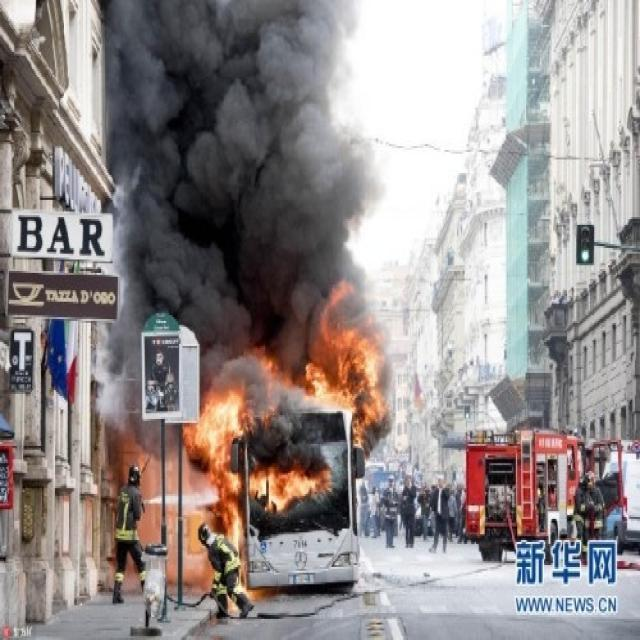Fire: (182, 276, 390, 602)
Smoke: (92, 2, 390, 467)
